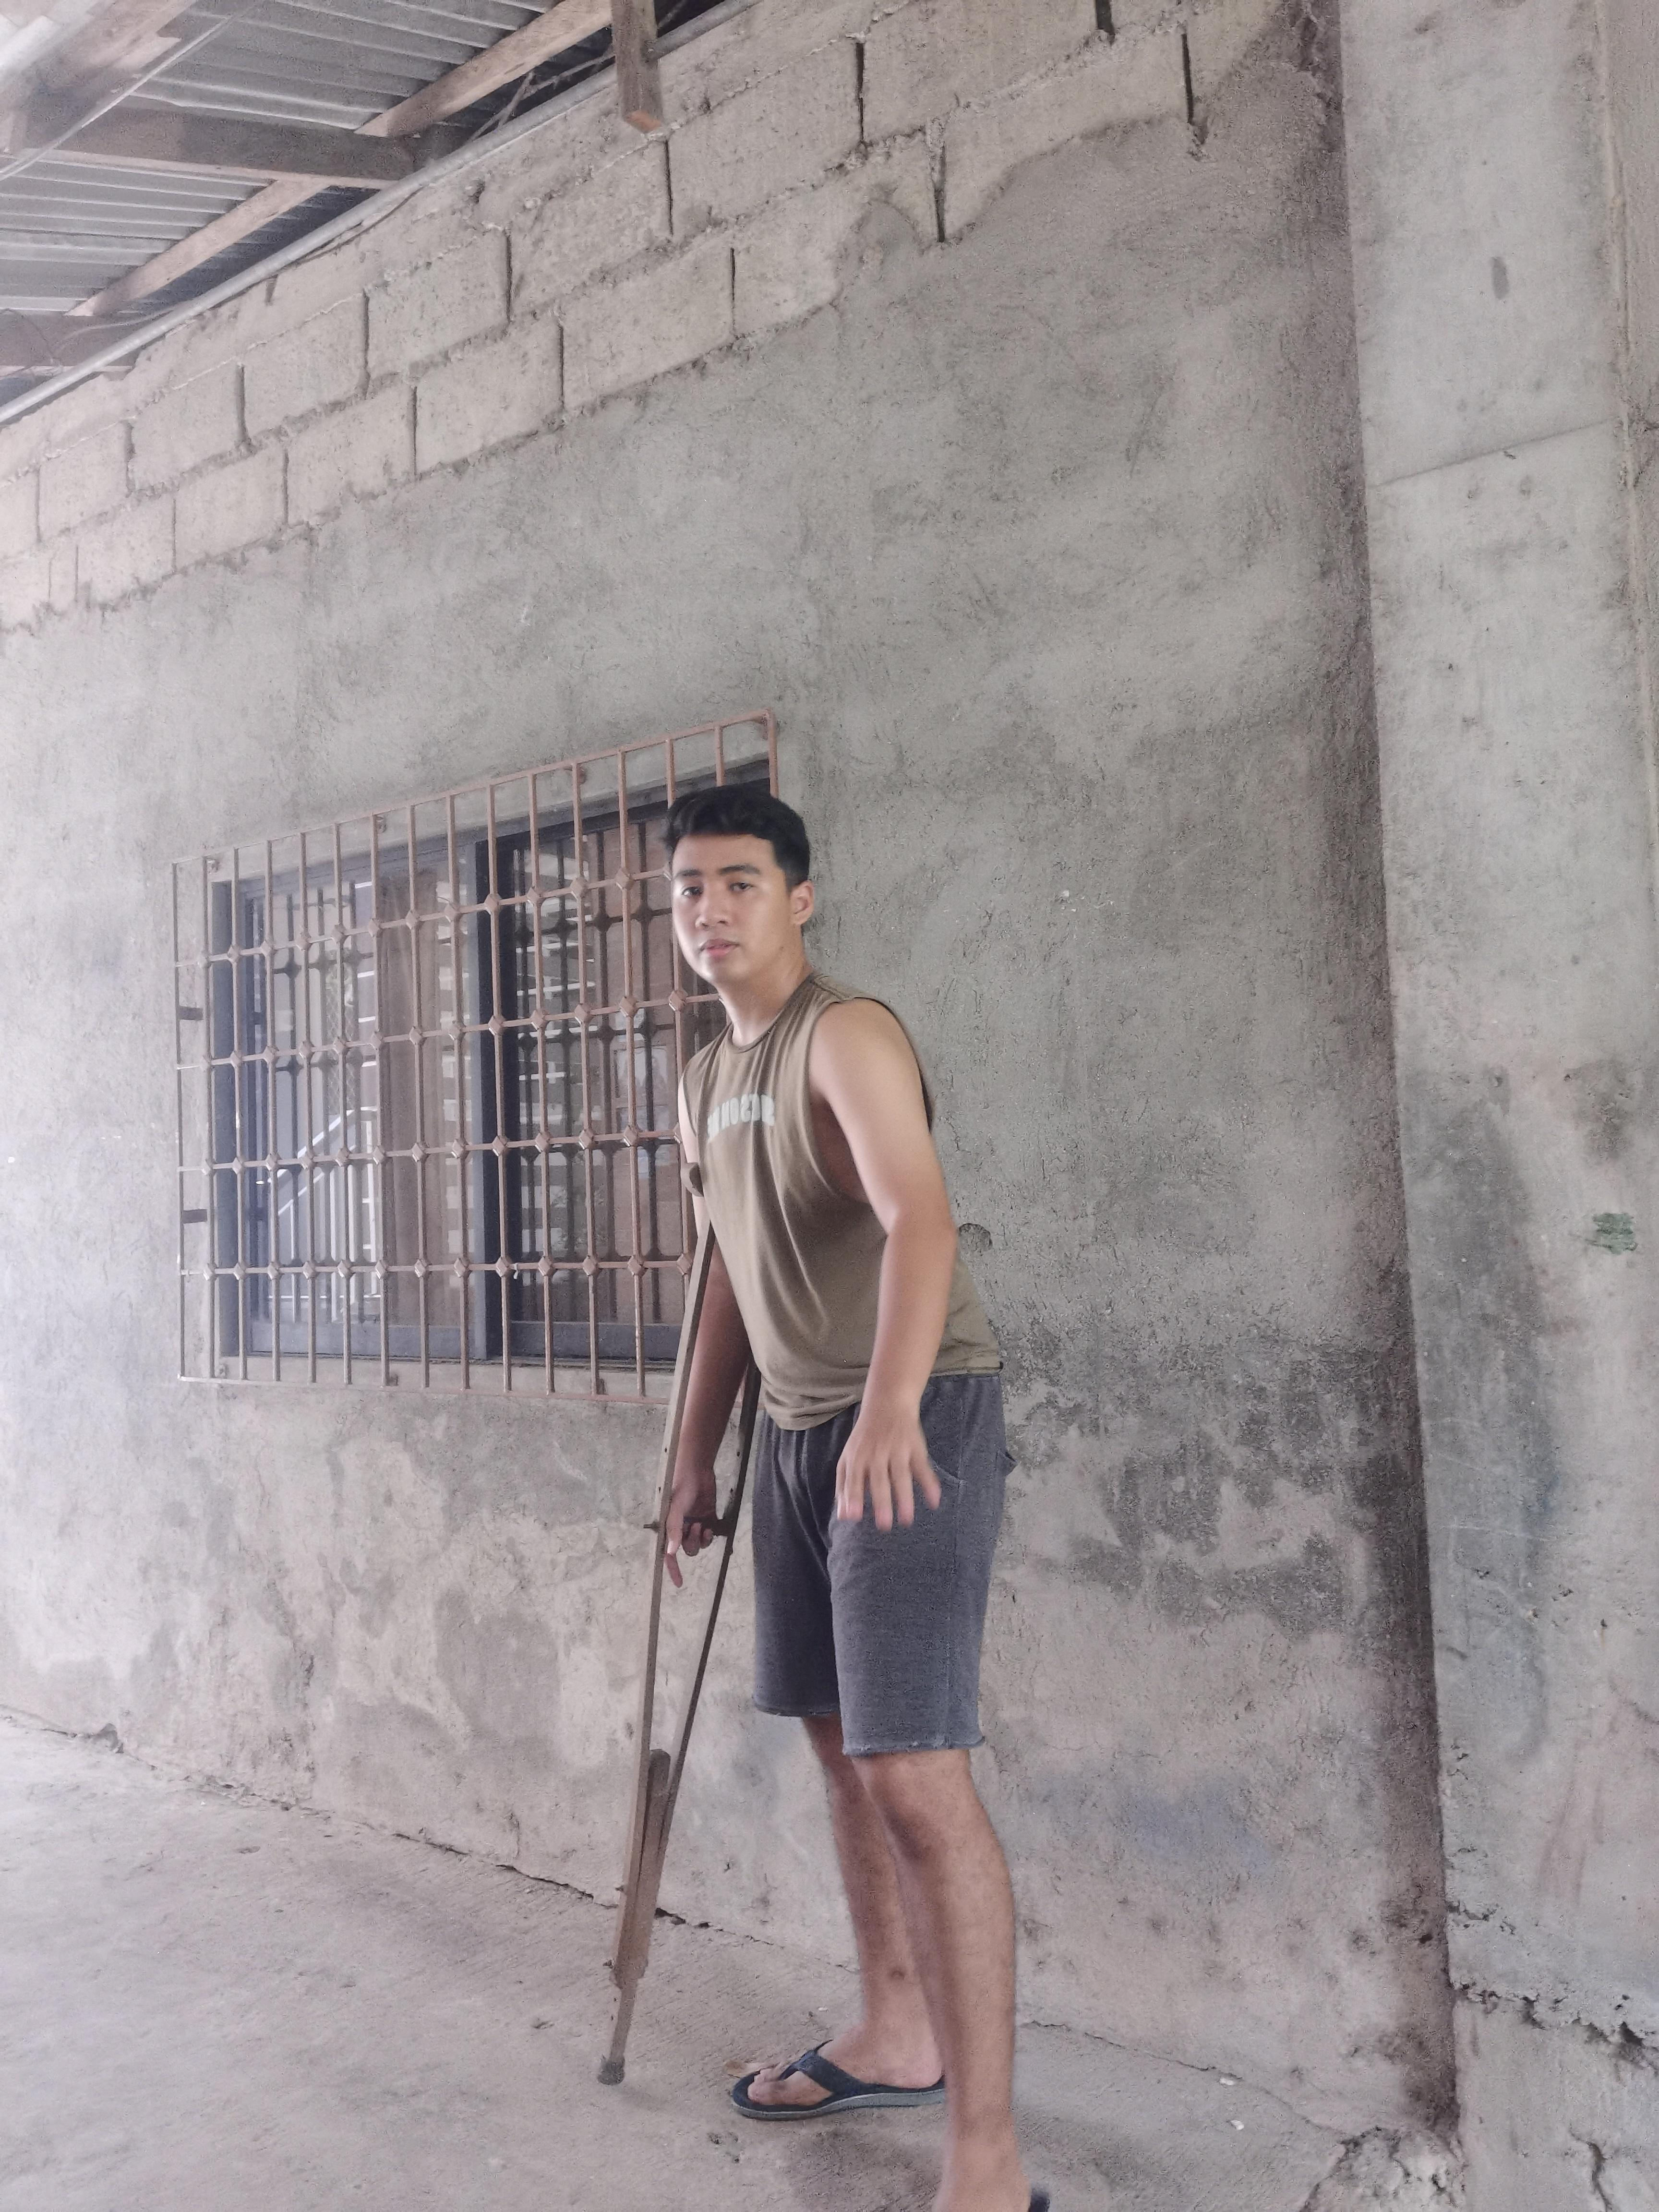crutches: (592, 787, 1047, 2212)
